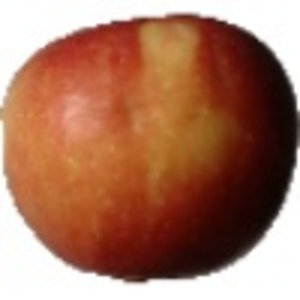maçã braeburn: (1, 10, 300, 284)
